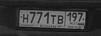license-plateSW: (18, 9, 87, 30)
